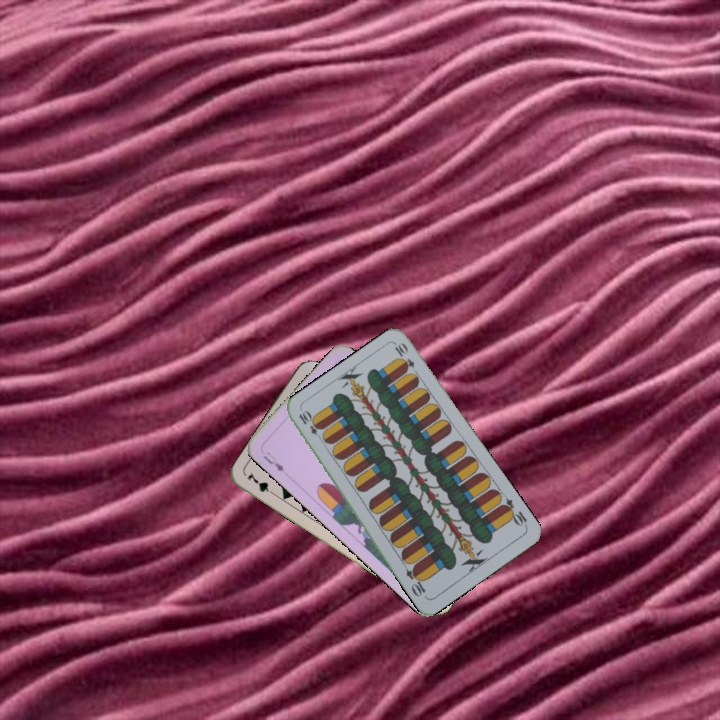E10: (497, 494, 530, 530), (295, 407, 326, 443)
EU: (259, 447, 287, 475)
G7: (243, 469, 279, 499)
